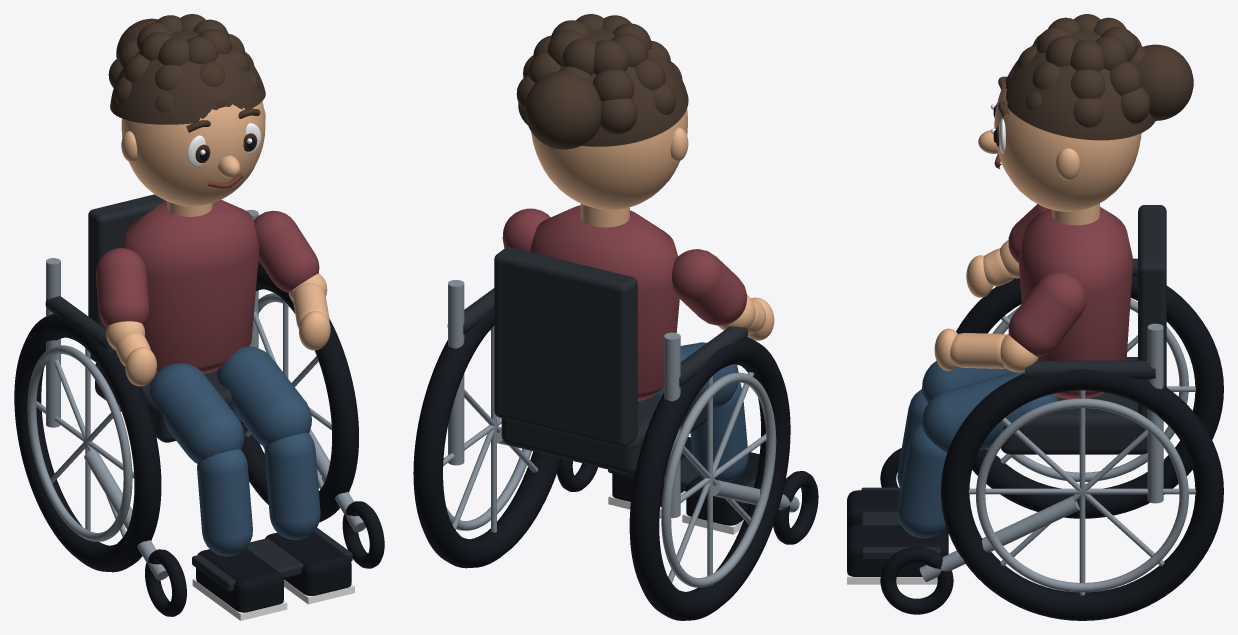
File: P_motriz.glb
3 views of the same model, side by side, from view 1: azimuth 30°, elevation 25°; view 2: azimuth 150°, elevation 25°; view 3: azimuth 270°, elevation 25° (orthographic). The views are drawn at different scales.
Visible parts, largest first — view 1: rueda (×2), torso, muslo (×2), pierna (×2), cabeza, manga (×2), zapato (×2), cabello, aro_impulsion, rueda_delantera (×2), rizo (×5), respaldo (+9 smaller); view 2: rueda (×2), respaldo, torso, cabeza, rizo (×9), aro_impulsion (×2), manga (×2), moño, asiento, estructura (×2), cabello, rueda_delantera (×2) (+7 smaller); view 3: rueda (×2), torso, cabeza, aro_impulsion (×2), rizo (×8), cabello, asiento, muslo (×2), manga (×2), pierna (×2), zapato (×2), radio (×7) (+13 smaller).
Part boxes in pixels (x1,y1,x2,y2): rueda (×2): (14,268,358,572); torso: (122,199,259,374); muslo (×2): (148,346,311,463); pierna (×2): (197,432,320,556); cabeza: (121,101,265,206); manga (×2): (96,210,319,327); zapato (×2): (196,532,351,612); cabello: (110,30,265,124); aro_impulsion: (27,345,132,541); rueda_delantera (×2): (145,501,384,616); rizo (×5): (139,32,225,90); respaldo: (88,194,166,362); rueda (×2): (413,305,790,620); respaldo: (494,247,637,447); torso: (529,205,679,401); cabeza: (531,108,687,209); rizo (×9): (528,30,675,134); aro_impulsion (×2): (446,329,776,587); manga (×2): (502,208,747,325); moño: (525,71,601,149); asiento: (501,389,707,474); estructura (×2): (448,280,680,518); cabello: (518,29,688,146); rueda_delantera (×2): (557,458,818,544); rueda (×2): (941,276,1223,620); torso: (1018,207,1133,399); cabeza: (994,79,1141,211); aro_impulsion (×2): (976,299,1188,592); rizo (×8): (1032,36,1150,127); cabello: (1005,30,1155,140); asiento: (1001,357,1147,454); muslo (×2): (922,361,1058,452); manga (×2): (1008,204,1086,357); pierna (×2): (897,389,947,538); zapato (×2): (847,490,948,576); radio (×7): (968,390,1195,595).
Size of the model in its own units: 0.8508 by 1.87 by 1.18.
